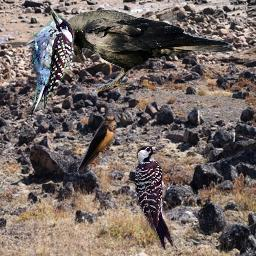Crow: (62, 9, 234, 96)
Swallow: (77, 114, 117, 173)
Woodpecker: (14, 6, 82, 123), (135, 144, 173, 250)
